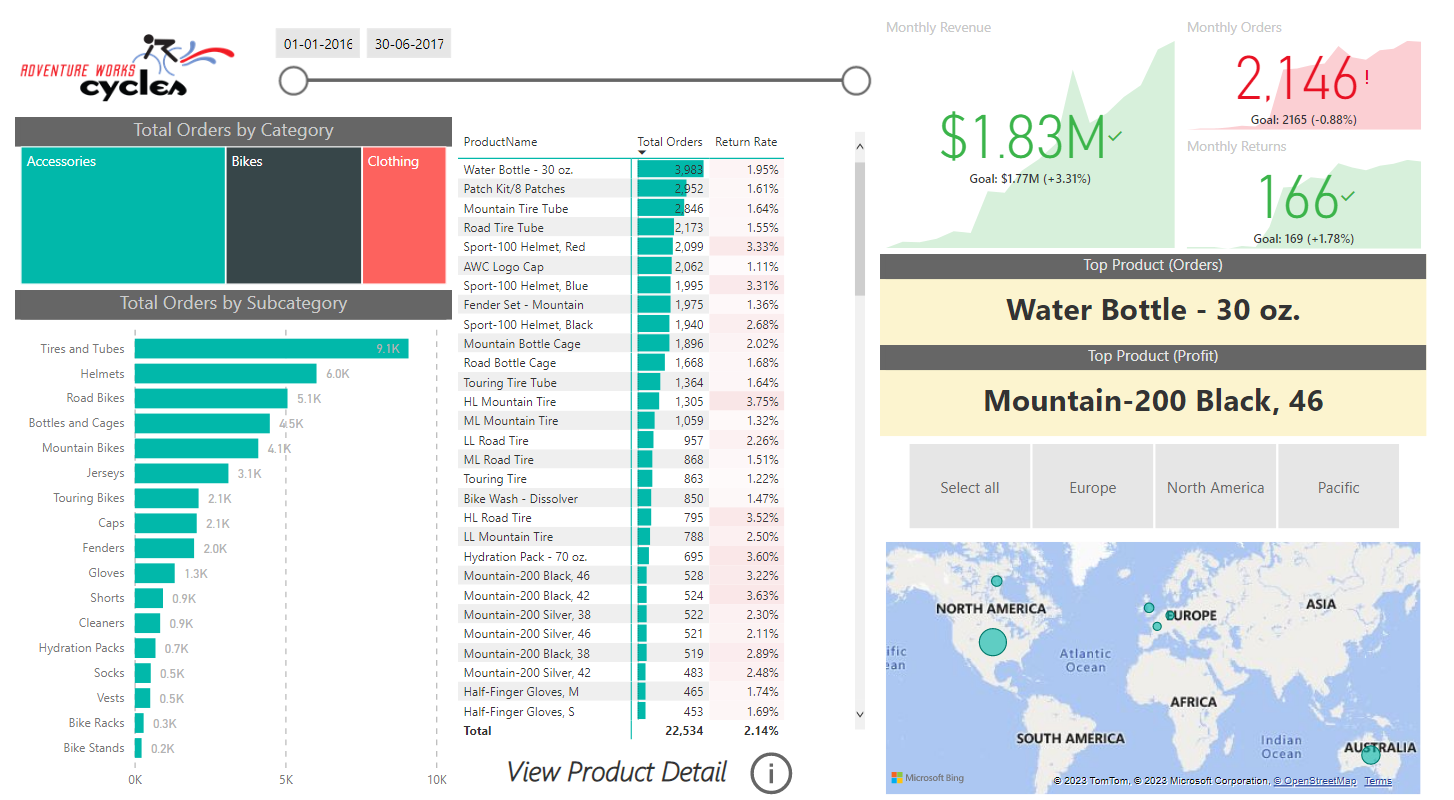

The dashboard page shown, as its layout file describes it:
{"tool":"powerbi","page":{"name":"Exec Summary","canvas":[1280,720],"ordinal":0},"visuals":[{"type":"image","box":[16,16,200,88],"z":0},{"type":"barChart","title":"Total Orders by Subcategory","fields":{"Y":["AW_Sales.Total Orders"],"Category":["AW_Product_Subcategory_Lookup.SubcategoryName"]},"box":[16,256,384,448],"z":1000},{"type":"treemap","title":"Total Orders by Category","fields":{"Group":["AW_Product_Category_Lookup.CategoryName","AW_Product_Subcategory_Lookup.SubcategoryName"],"Values":["AW_Sales.Total Orders"]},"box":[16,104,384,152],"z":2000},{"type":"pivotTable","fields":{"Values":["AW_Sales.Total Orders","AW_Returns.Return Rate"],"Rows":["AW_Product_Category_Lookup.CategoryName","AW_Product_Subcategory_Lookup.SubcategoryName","AW_Product_Lookup.ProductName"]},"box":[400,112,368,544],"z":3000},{"type":"slicer","fields":{"Values":["AW_Calendar_Lookup.Date"]},"box":[232,16,544,88],"z":4000},{"type":"kpi","title":"Monthly Orders","fields":{"TrendLine":["AW_Calendar_Lookup.Start of Month"],"Goal":["AW_Sales.Prev Month Orders"],"Indicator":["AW_Sales.Total Orders"]},"box":[1040,16,216,104],"z":5000},{"type":"kpi","title":"Monthly Returns","fields":{"TrendLine":["AW_Calendar_Lookup.Start of Month"],"Goal":["AW_Returns.Prev Month Returns"],"Indicator":["AW_Returns.Total Returns"]},"box":[1040,120,216,104],"z":6000},{"type":"kpi","title":"Monthly Revenue","fields":{"Indicator":["AW_Sales.Total Revenue"],"TrendLine":["AW_Calendar_Lookup.Start of Month"],"Goal":["AW_Sales.Prev Month Revenue"]},"box":[776,16,264,208],"z":7000},{"type":"card","title":"Top Product (Orders)","fields":{"Values":["Min(AW_Product_Lookup.ProductName)"]},"box":[776,224,480,80],"z":8000},{"type":"card","title":"Top Product (Profit)","fields":{"Values":["Min(AW_Product_Lookup.ProductName)"]},"box":[776,304,480,80],"z":9000},{"type":"map","fields":{"Category":["AW_Territories_Lookup.Country"],"Size":["AW_Sales.Total Orders"]},"box":[776,472,480,232],"z":10000},{"type":"slicer","fields":{"Values":["AW_Territories_Lookup.Continent"]},"box":[776,384,480,88],"z":11000},{"type":"textbox","box":[400,656,288,48],"z":12000},{"type":"actionButton","box":[656,656,48,48],"z":13000}]}

Visuals, with their boxes in screenshot pixels (x1, y1, x2, y2), scaled from the page's 1280x720 canvas onto the 1454x800 screenshot:
image: left=18, top=18, right=245, bottom=116
"Total Orders by Subcategory" barChart: left=18, top=284, right=454, bottom=782
"Total Orders by Category" treemap: left=18, top=116, right=454, bottom=284
pivotTable - AW_Sales.Total Orders x AW_Returns.Return Rate: left=454, top=124, right=872, bottom=729
slicer - AW_Calendar_Lookup.Date: left=264, top=18, right=881, bottom=116
"Monthly Orders" kpi: left=1181, top=18, right=1427, bottom=133
"Monthly Returns" kpi: left=1181, top=133, right=1427, bottom=249
"Monthly Revenue" kpi: left=881, top=18, right=1181, bottom=249
"Top Product (Orders)" card: left=881, top=249, right=1427, bottom=338
"Top Product (Profit)" card: left=881, top=338, right=1427, bottom=427
map - AW_Territories_Lookup.Country x AW_Sales.Total Orders: left=881, top=524, right=1427, bottom=782
slicer - AW_Territories_Lookup.Continent: left=881, top=427, right=1427, bottom=524
textbox: left=454, top=729, right=782, bottom=782
actionButton: left=745, top=729, right=800, bottom=782
